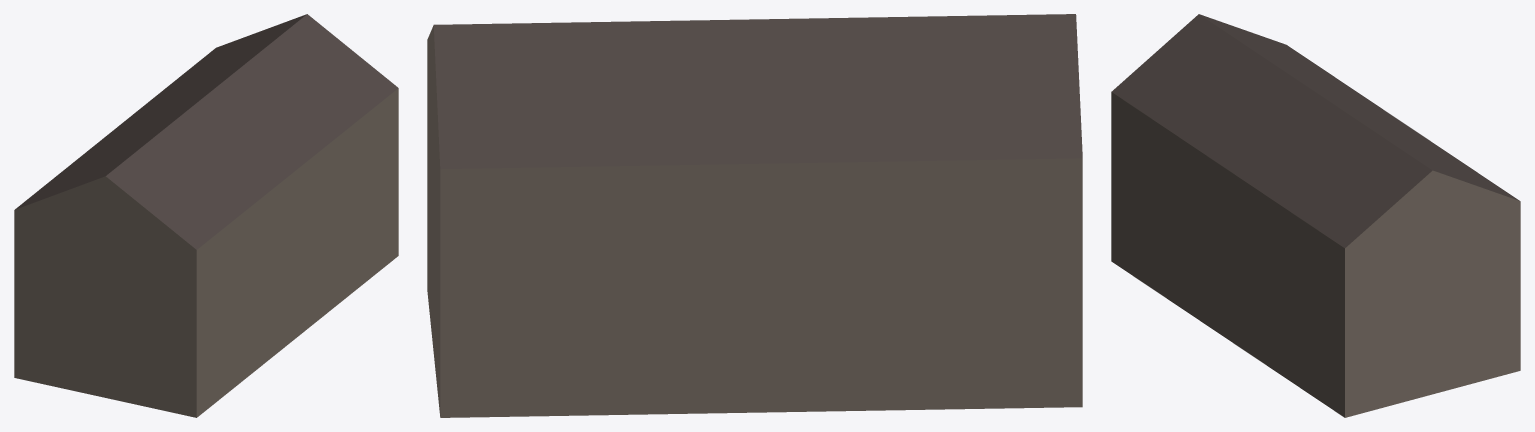
3 views of the same model, side by side, from view 1: azimuth 30°, elevation 25°; view 2: azimuth 150°, elevation 25°; view 3: azimuth 270°, elevation 25° (orthographic). The views are drawn at different scales.
Parts seen in each view (by area): view 1: HP-w859088520; view 2: HP-w859088520; view 3: HP-w859088520.
Part boxes in pixels (x1,y1,x2,y2): HP-w859088520: [14, 14, 398, 417]; HP-w859088520: [427, 14, 1082, 417]; HP-w859088520: [1111, 14, 1520, 417].
Size of the model in its own units: 15.46 by 7.93 by 13.13.
